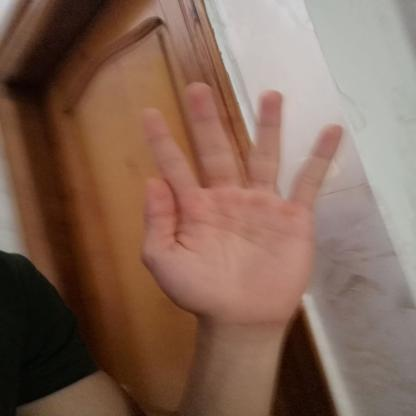SHEEN: (118, 72, 360, 340)
